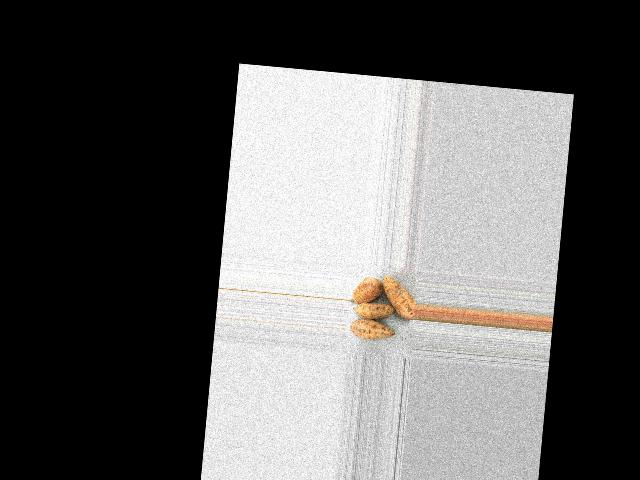sweet_potato: (379, 271, 420, 324)
